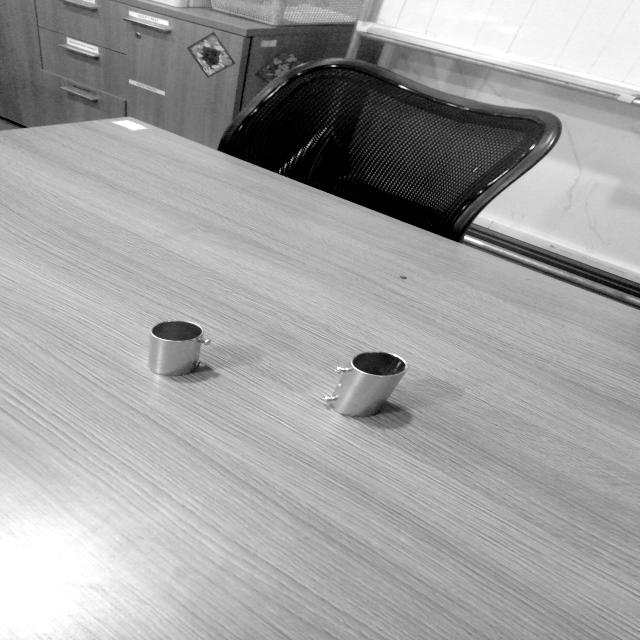Co_Lon: (316, 331, 411, 432)
Co_Nho: (146, 318, 211, 380)
